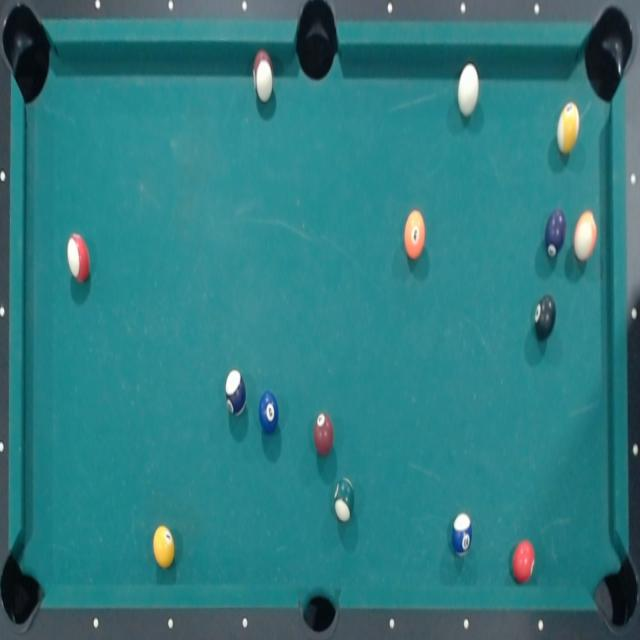black_8ball: (534, 293, 557, 340)
blue_solid: (258, 390, 279, 434)
blue_stripe: (452, 512, 472, 556)
cue_ball: (456, 62, 481, 117)
green_stripe: (333, 476, 356, 524)
maroon_solid: (314, 412, 334, 457)
maroon_stripe: (252, 47, 275, 105)
orange_solid: (403, 209, 428, 262)
orange_stripe: (573, 208, 598, 262)
playr: (544, 207, 568, 260)
purple_solid: (223, 368, 249, 420)
purple_stripe: (512, 539, 536, 584)
red_solid: (66, 232, 94, 285)
red_stripe: (152, 524, 178, 571)
yellow_solid: (555, 100, 582, 156)
